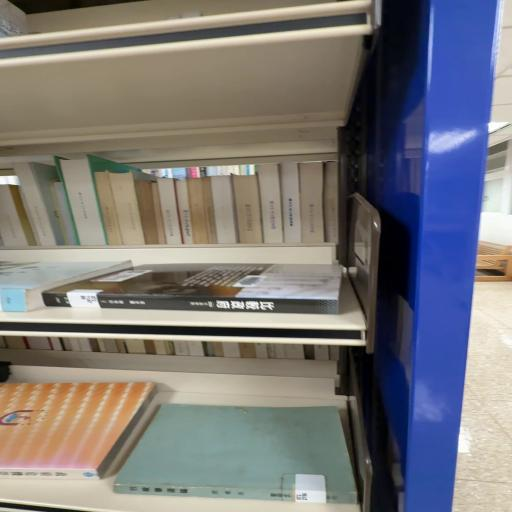flat: (114, 404, 356, 506), (43, 264, 341, 314)
